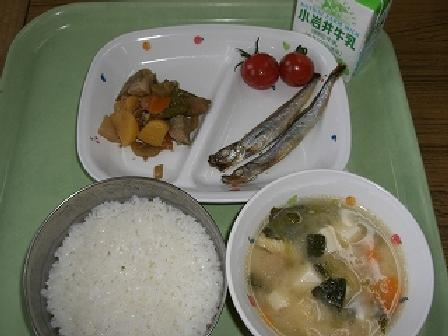Cherry tomatoes: (229, 30, 315, 90)
Fish: (203, 97, 327, 182)
Milk: (287, 2, 385, 49)
Rice: (22, 185, 227, 328)
Soups: (233, 180, 429, 330)
cooked food meat with vegetables: (104, 68, 200, 155)
